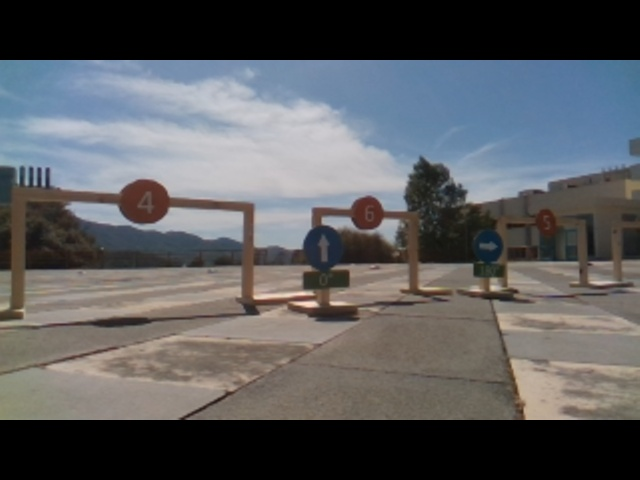0_degree: (302, 271, 352, 288)
180_degree: (470, 261, 508, 279)
arrow_right: (472, 229, 505, 264), (403, 281, 451, 297)
arrow_up: (302, 225, 347, 270)
checkpoint_foot: (237, 287, 292, 306)
checkpoint_side: (9, 181, 29, 308), (237, 197, 261, 299), (404, 210, 421, 291), (573, 217, 592, 282)
checkpoint_signal: (9, 182, 261, 216), (308, 205, 423, 222), (499, 214, 591, 232)
five: (537, 208, 558, 237)
four: (120, 178, 171, 222)
six: (351, 197, 386, 229)
